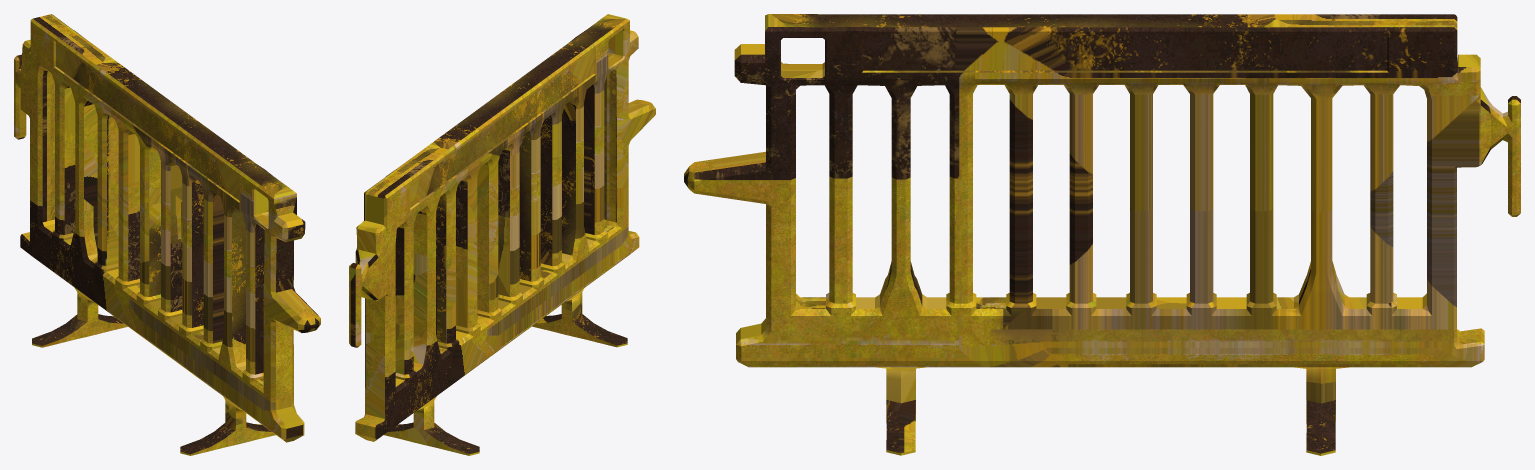
File: Barrier_2.fbx
3 renders of one model, left to right at view 1: azimuth 30°, elevation 25°; view 2: azimuth 150°, elevation 25°; view 3: azimuth 270°, elevation 25°, orthographic. The views are drawn at different scales.
Parts seen in each view (by area): view 1: Barrier; view 2: Barrier; view 3: Barrier.
Boxes of the visible parts, x1,y1,x2,y2 form: Barrier: (14, 14, 320, 455); Barrier: (349, 14, 655, 455); Barrier: (684, 14, 1520, 455).
Size of the model in its own units: 0.771 by 1.86 by 3.55.
